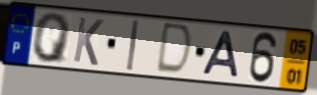6: (247, 30, 279, 85)
A: (200, 30, 241, 80)
D: (153, 21, 195, 78)
I: (125, 19, 141, 73)
K: (71, 15, 106, 69)
Q: (31, 12, 73, 65)
